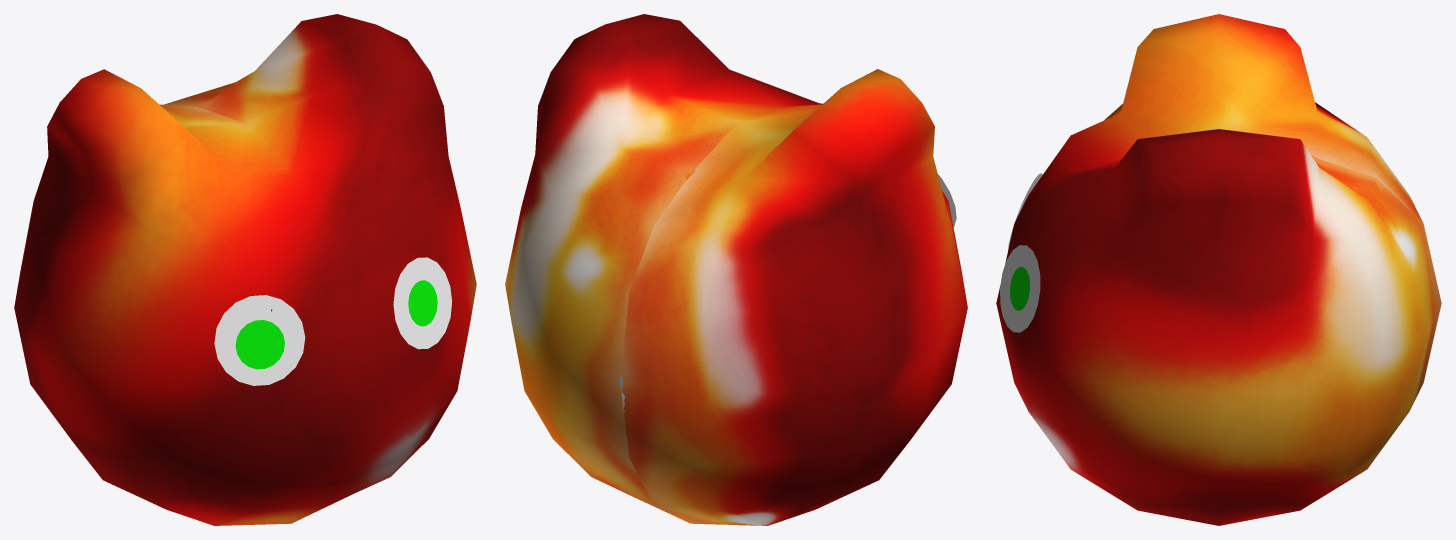
File: RedSlime_Enemy.FBX
3 renders of one model, left to right at view 1: azimuth 30°, elevation 25°; view 2: azimuth 150°, elevation 25°; view 3: azimuth 270°, elevation 25°, orthographic. The views are drawn at different scales.
Visible parts, largest first — view 1: Slime_body07; view 2: Slime_body07; view 3: Slime_body07.
Boxes of the visible parts, x1=… form: Slime_body07: x1=14, y1=14, x2=476, y2=525; Slime_body07: x1=505, y1=14, x2=967, y2=525; Slime_body07: x1=996, y1=14, x2=1441, y2=525.
Bounding box in the file's own units: 4.39 × 4.69 × 4.39.
